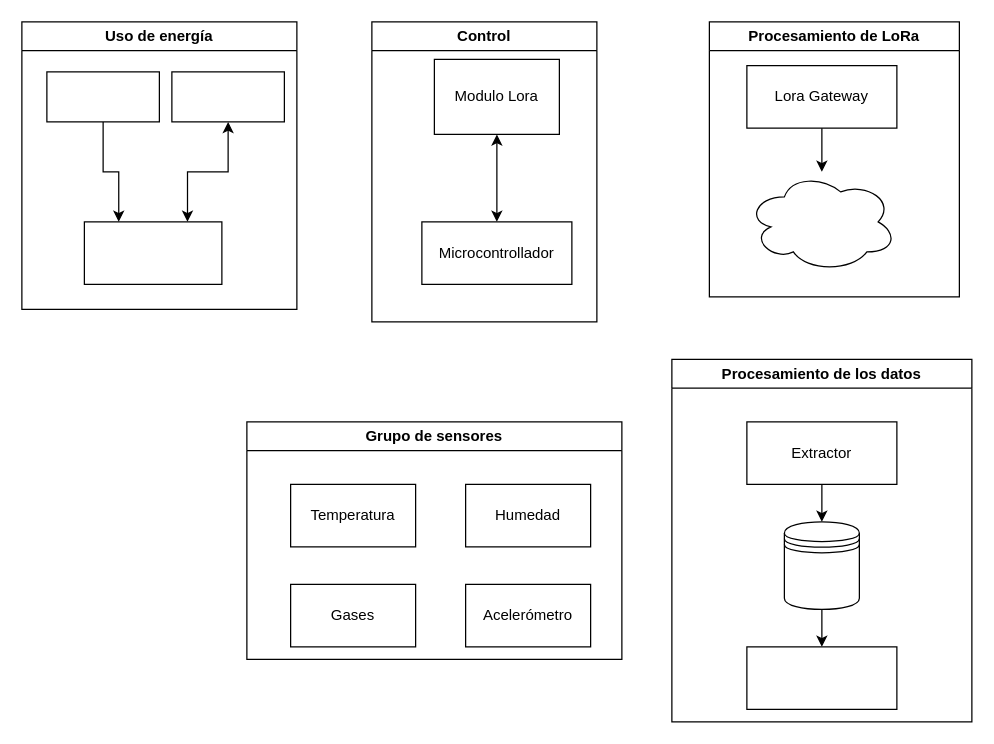
This 994x744 diagram has some shape labels left out. The shapes that lost their labels are listed below. From the top down, each one's centre as x and y in pixels, then its label:
(x=102, y=96): Panel Solar
(x=227, y=96): Bateria
(x=821, y=221): TTN
(x=152, y=252): Cargador / Inversor
(x=821, y=565): BBDD
(x=821, y=677): Visualización
